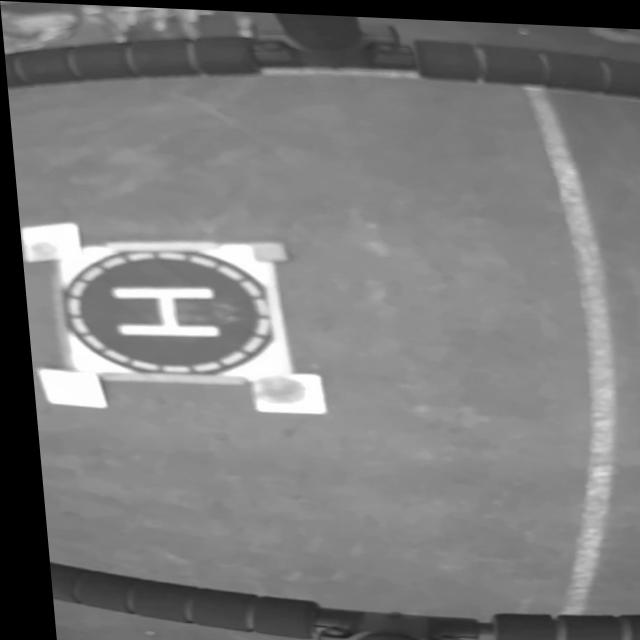Helipad: (108, 283, 214, 334)
